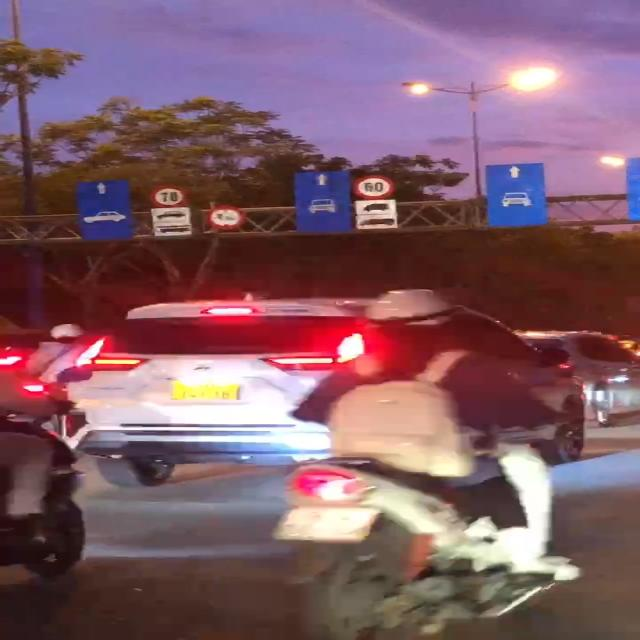Bien bao toc do toi da cho phep: (349, 174, 398, 200), (149, 183, 189, 207)
